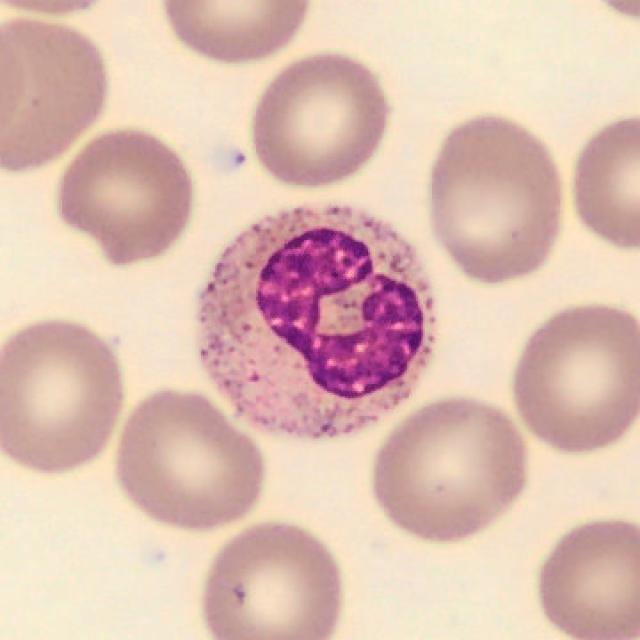Bastonete: (199, 208, 434, 434)
